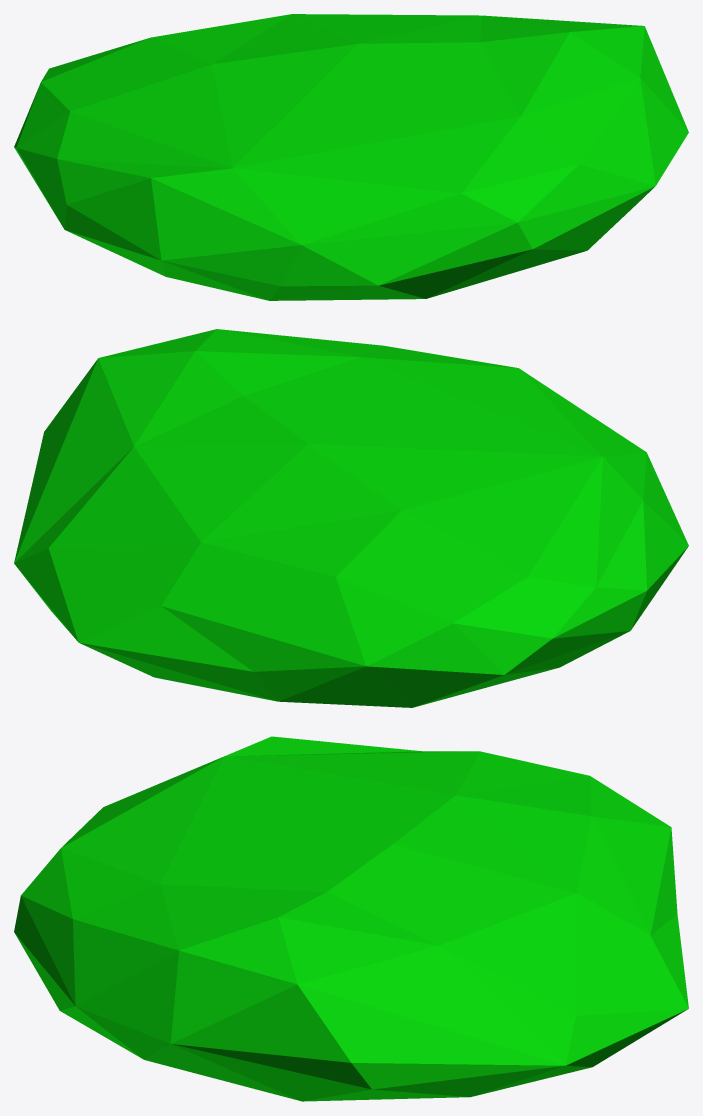
The model's file is ak_flatgrass.fbx.
3 renders of one model, top to bottom at view 1: azimuth 30°, elevation 25°; view 2: azimuth 150°, elevation 25°; view 3: azimuth 270°, elevation 25°, orthographic. The views are drawn at different scales.
Parts seen in each view (by area): view 1: Icosphere; view 2: Icosphere; view 3: Icosphere.
Part boxes in pixels (bbox=[...]): Icosphere: bbox=[14, 14, 688, 300]; Icosphere: bbox=[14, 329, 688, 707]; Icosphere: bbox=[14, 736, 688, 1101].
Bounding box in the file's own units: 322 × 98.89 × 298.
